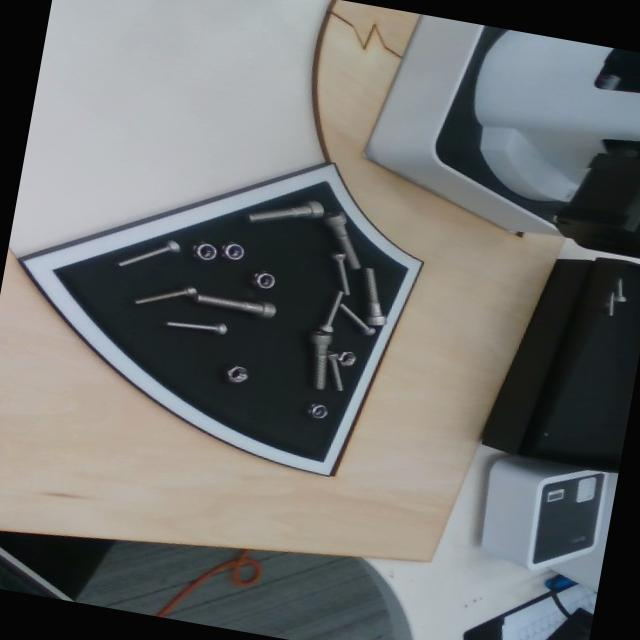big: (320, 205, 366, 275), (190, 286, 277, 322), (240, 196, 331, 226), (353, 263, 391, 330), (301, 331, 336, 391)
circle: (220, 360, 253, 387), (187, 238, 220, 265), (246, 266, 279, 291), (215, 239, 246, 264), (303, 400, 331, 422), (336, 348, 357, 367)
small: (110, 234, 186, 271), (333, 299, 384, 341), (128, 279, 200, 307), (163, 312, 227, 339), (322, 247, 356, 297), (316, 283, 349, 334), (325, 350, 347, 394)
